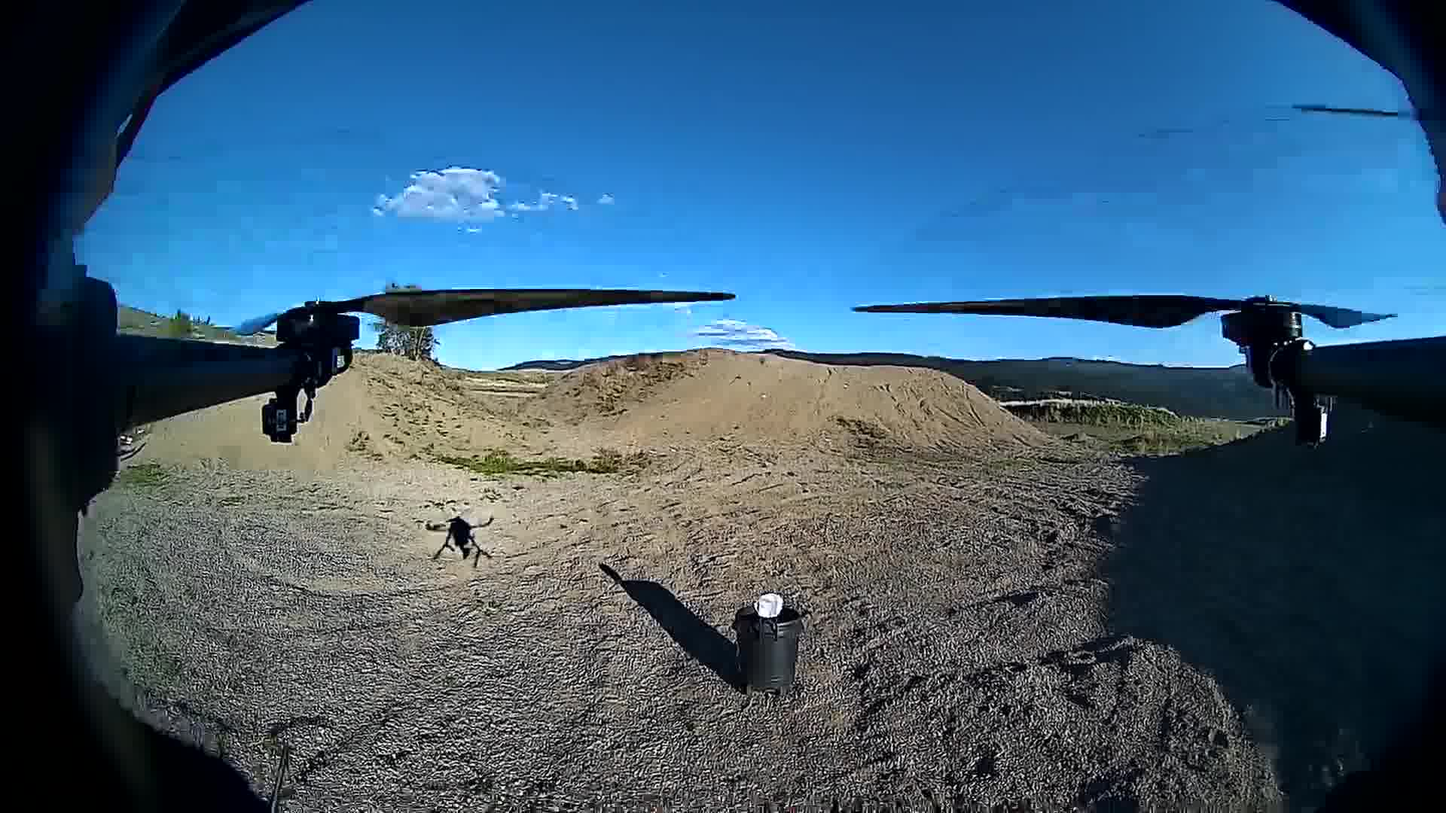Target: (752, 594, 785, 618)
